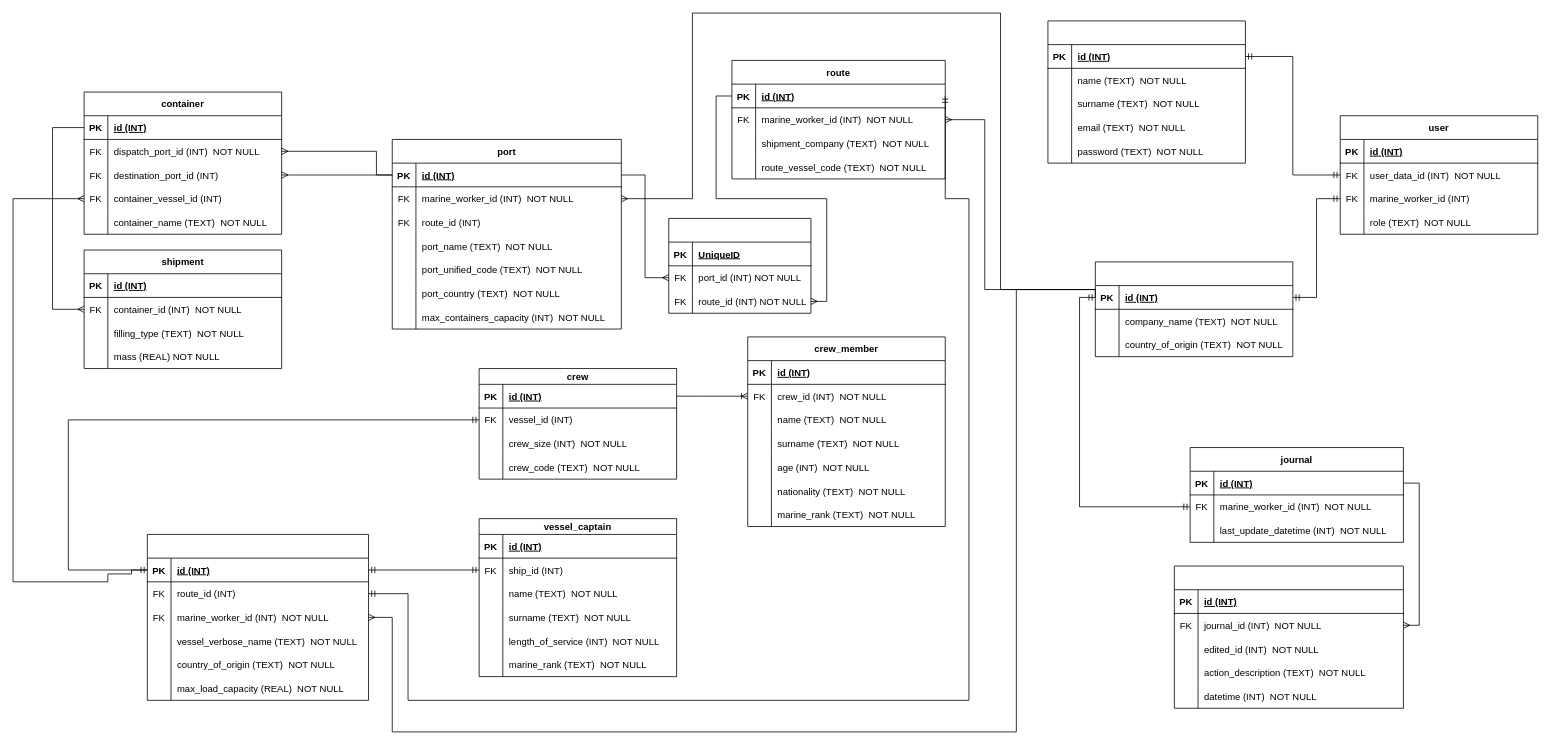
The diagram is 1551 pixels wide and 745 high, and some of its shapes have lost their labels. The shapes that lost their labels are listed below. From the top down, each one's box as (x1, y1, x2, y2) in pixels, then its label:
(1047, 20, 1245, 163): user_data
(668, 218, 811, 313): port_route
(1095, 261, 1293, 357): marine_worker
(147, 534, 369, 700): container_vessel
(1174, 565, 1403, 708): log_action
